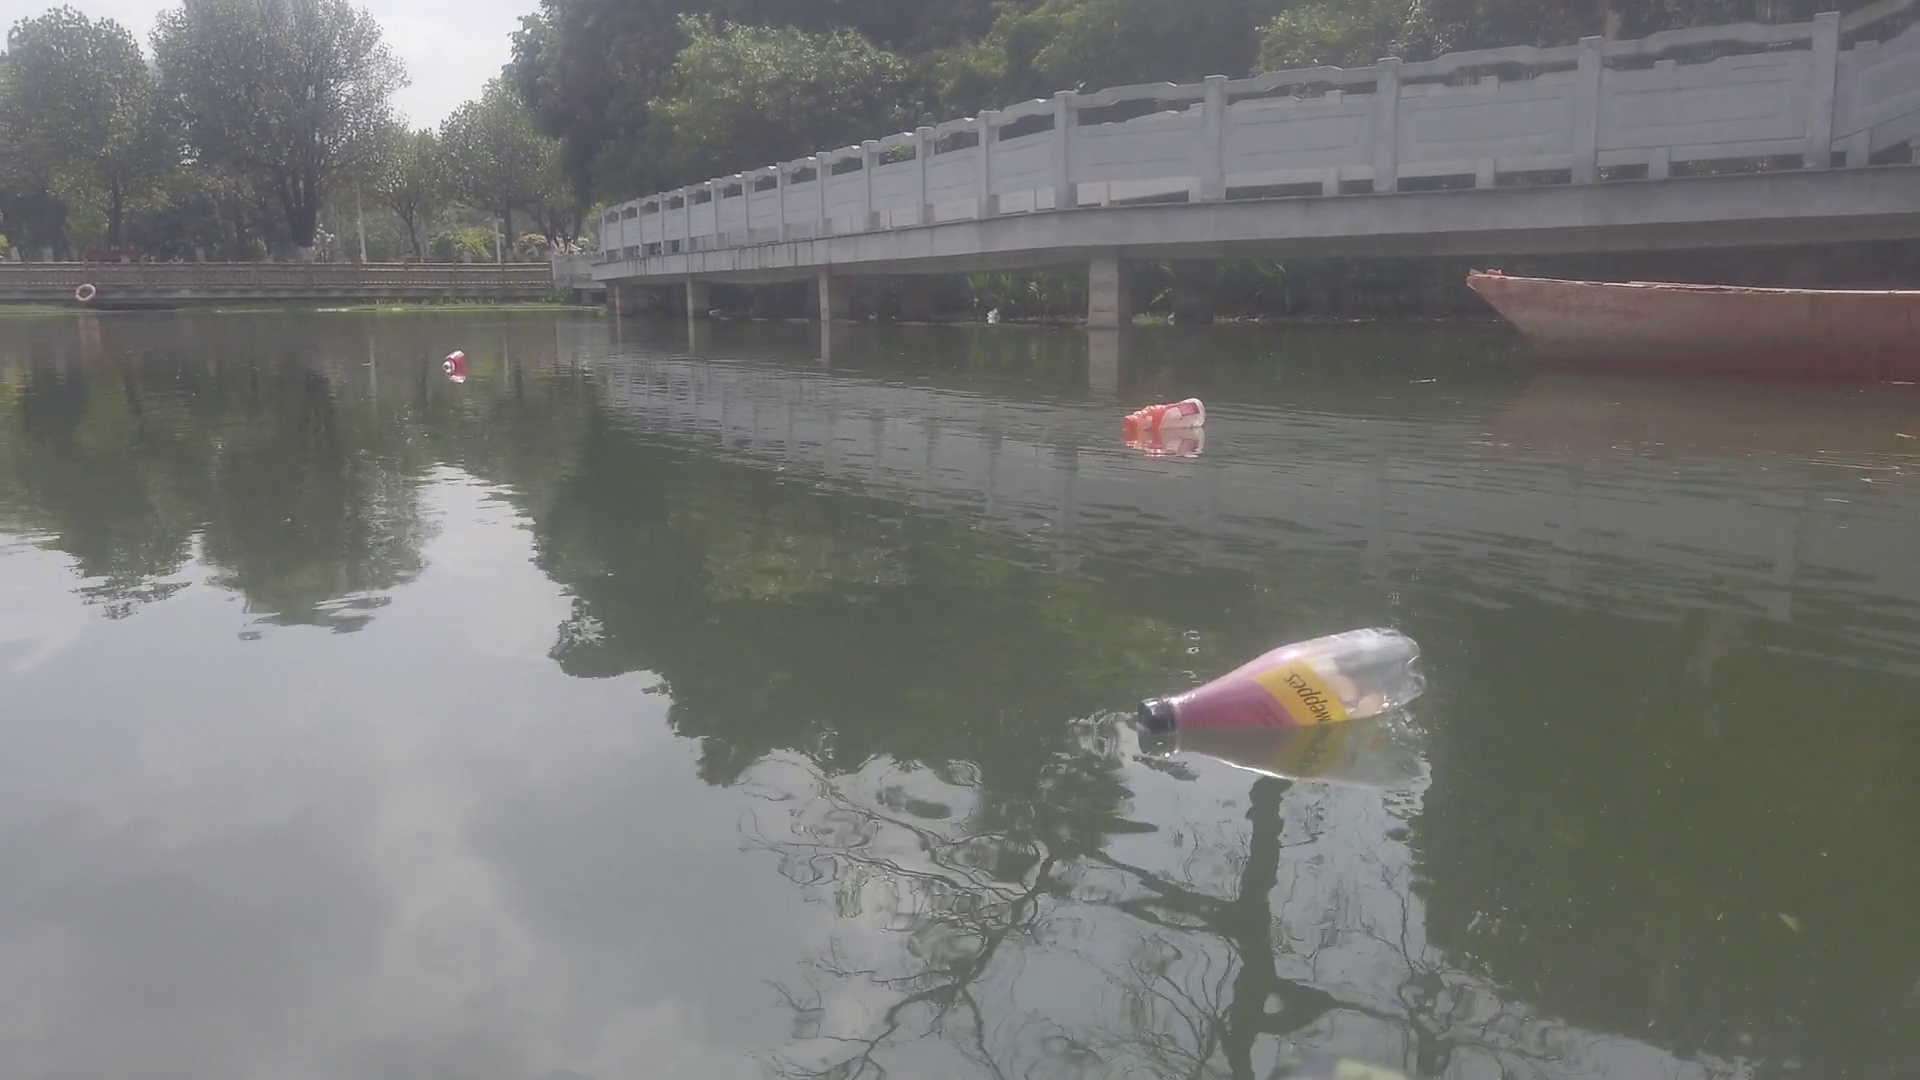bottle: (1127, 626, 1429, 731), (1120, 398, 1212, 436), (440, 348, 468, 375)
